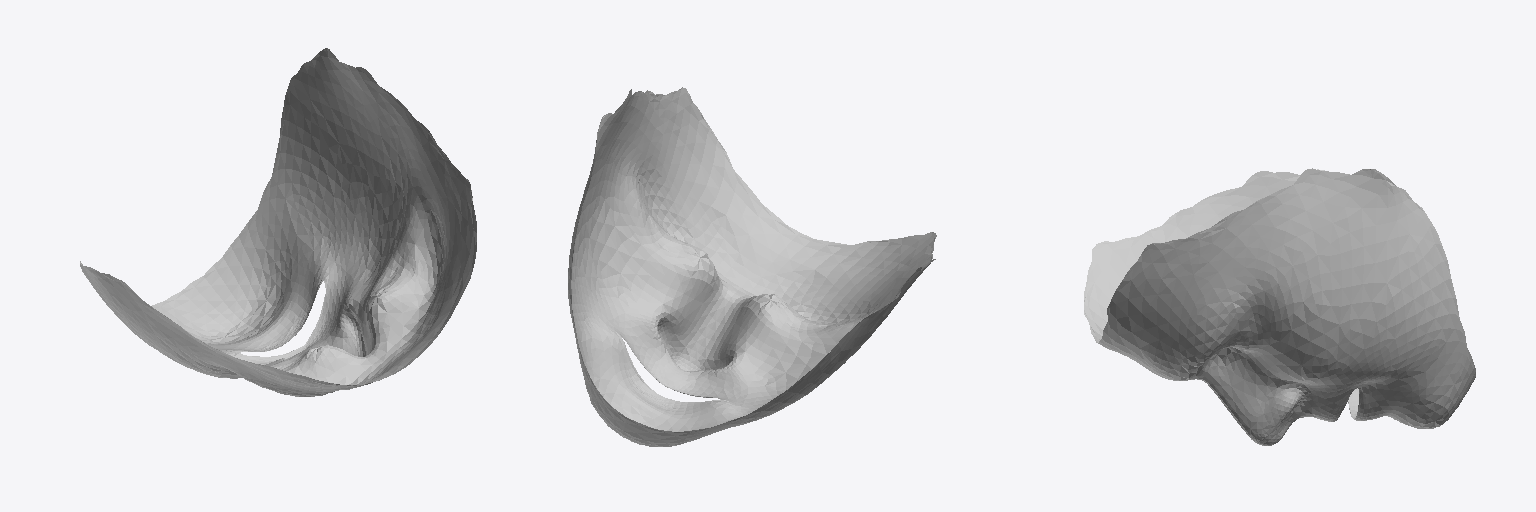
Rendered from face_gab_sfm43.obj.
3 views of the same model, side by side, from view 1: azimuth 30°, elevation 25°; view 2: azimuth 150°, elevation 25°; view 3: azimuth 270°, elevation 25° (orthographic).
Size of the model in its own units: 164 by 152 by 184.